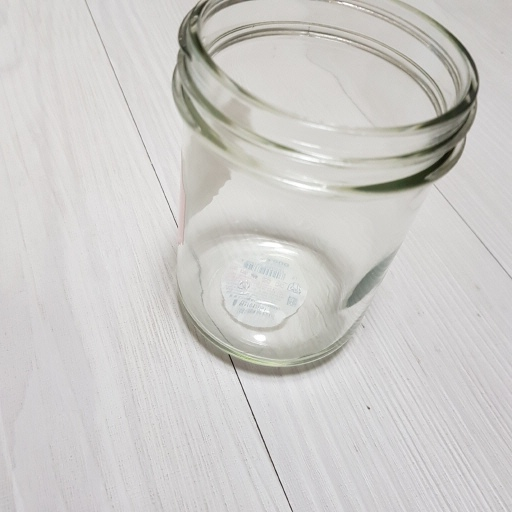Glass_5: (148, 1, 478, 378)
